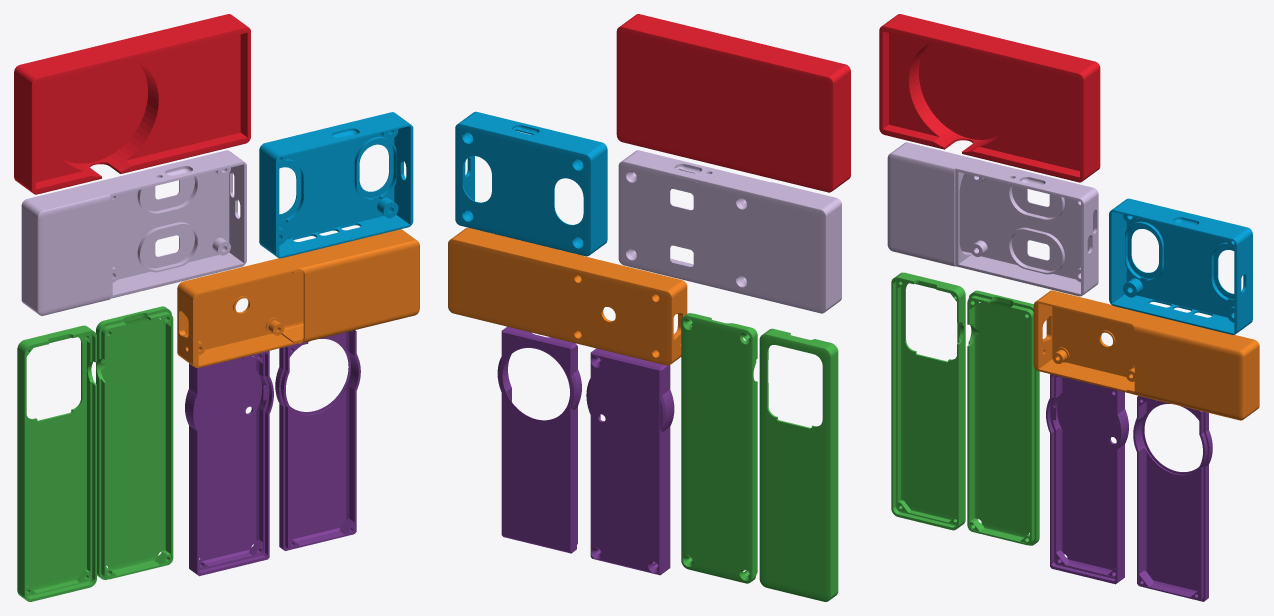
File: tinker.obj
3 renders of one model, left to right at view 1: azimuth 30°, elevation 25°; view 2: azimuth 150°, elevation 25°; view 3: azimuth 330°, elevation 25°, orthographic. The views are drawn at different scales.
Visible parts, largest first — view 1: obj_6, obj_5, obj_7, obj_1, obj_2, obj_0, obj_4, obj_3; view 2: obj_6, obj_5, obj_7, obj_1, obj_2, obj_0, obj_4, obj_3; view 3: obj_6, obj_5, obj_7, obj_1, obj_0, obj_2, obj_4, obj_3.
Boxes of the visible parts, x1,y1,x2,y2 form: obj_6: (14,14,250,194); obj_5: (21,150,246,315); obj_7: (177,229,419,368); obj_1: (96,306,173,579); obj_2: (185,351,273,576); obj_0: (17,325,96,601); obj_4: (259,112,413,258); obj_3: (275,330,360,550); obj_6: (616,14,850,192); obj_5: (618,150,841,313); obj_7: (448,227,687,365); obj_1: (681,313,757,583); obj_2: (586,348,674,575); obj_0: (759,328,838,601); obj_4: (455,111,607,256); obj_3: (497,326,581,553); obj_6: (879,14,1100,182); obj_5: (887,142,1098,296); obj_7: (1033,290,1259,420); obj_1: (967,290,1039,545); obj_0: (891,272,965,530); obj_2: (1046,374,1128,584); obj_4: (1109,198,1252,334); obj_3: (1133,395,1212,601).
Size of the model in its own units: 210 by 281 by 17.
